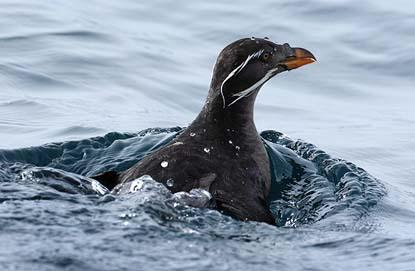008.Rhinoceros_Auklet: (92, 37, 319, 229)
